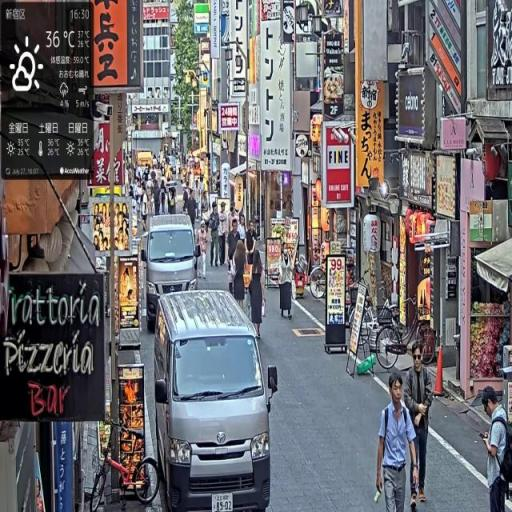person: (377, 374, 419, 512), (404, 343, 434, 510), (483, 387, 508, 512), (250, 251, 266, 340), (279, 245, 294, 320), (227, 220, 241, 295), (233, 240, 248, 308), (220, 202, 231, 267), (197, 222, 209, 280), (210, 204, 220, 268), (246, 222, 258, 266), (188, 192, 199, 228), (154, 179, 162, 216), (143, 192, 150, 232), (168, 189, 177, 216), (240, 215, 248, 244), (161, 180, 167, 216), (229, 206, 239, 227), (202, 192, 210, 216), (183, 188, 190, 215)
